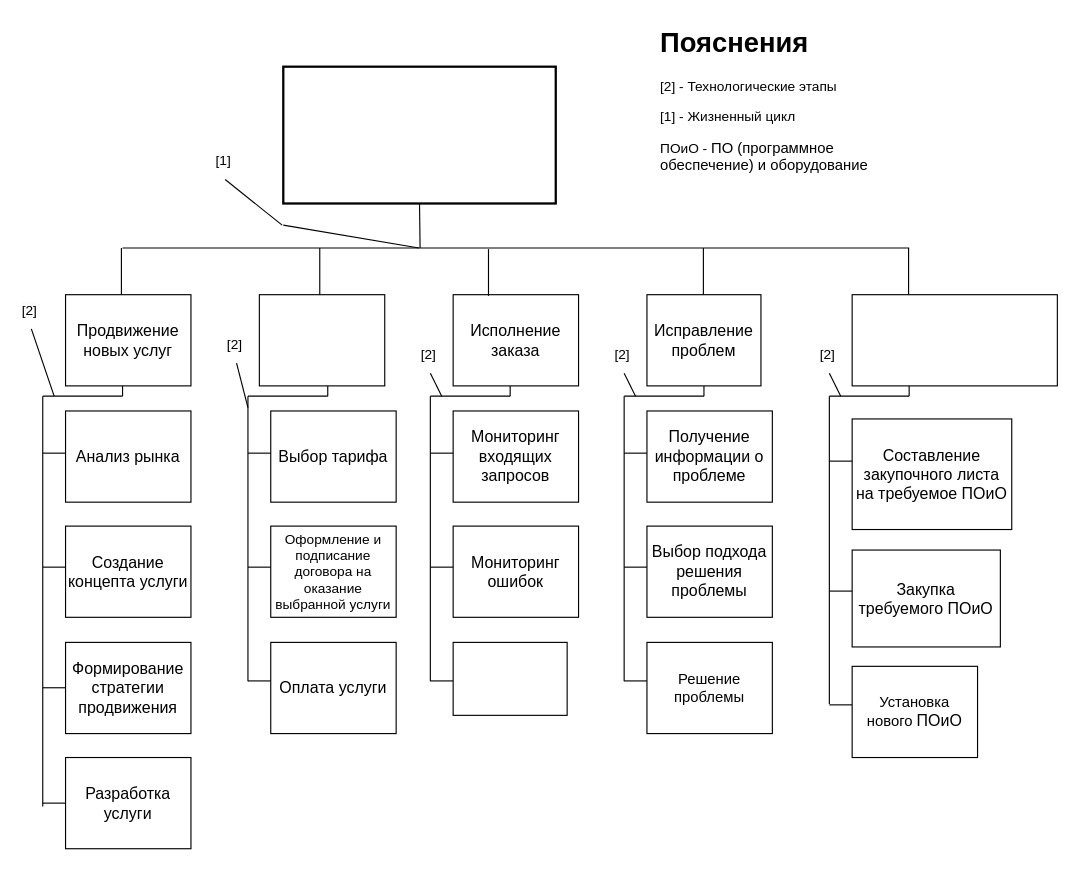
Image size: 1077x869. Some labels were removed from this diagram. Each missing label, with the centre of its shape:
"Обновление программного обеспечения и оборудования" belongs at [954,340].
"Оформление услуги хостинга" belongs at [321,340].
"Система оказания услуг веб-хостинга в IT-компании" belongs at [419,134].
"Формирование ответов" belongs at [509,678].
